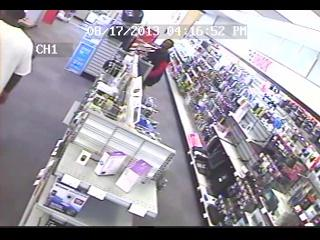Normal: (0, 11, 35, 147), (142, 39, 174, 87)
